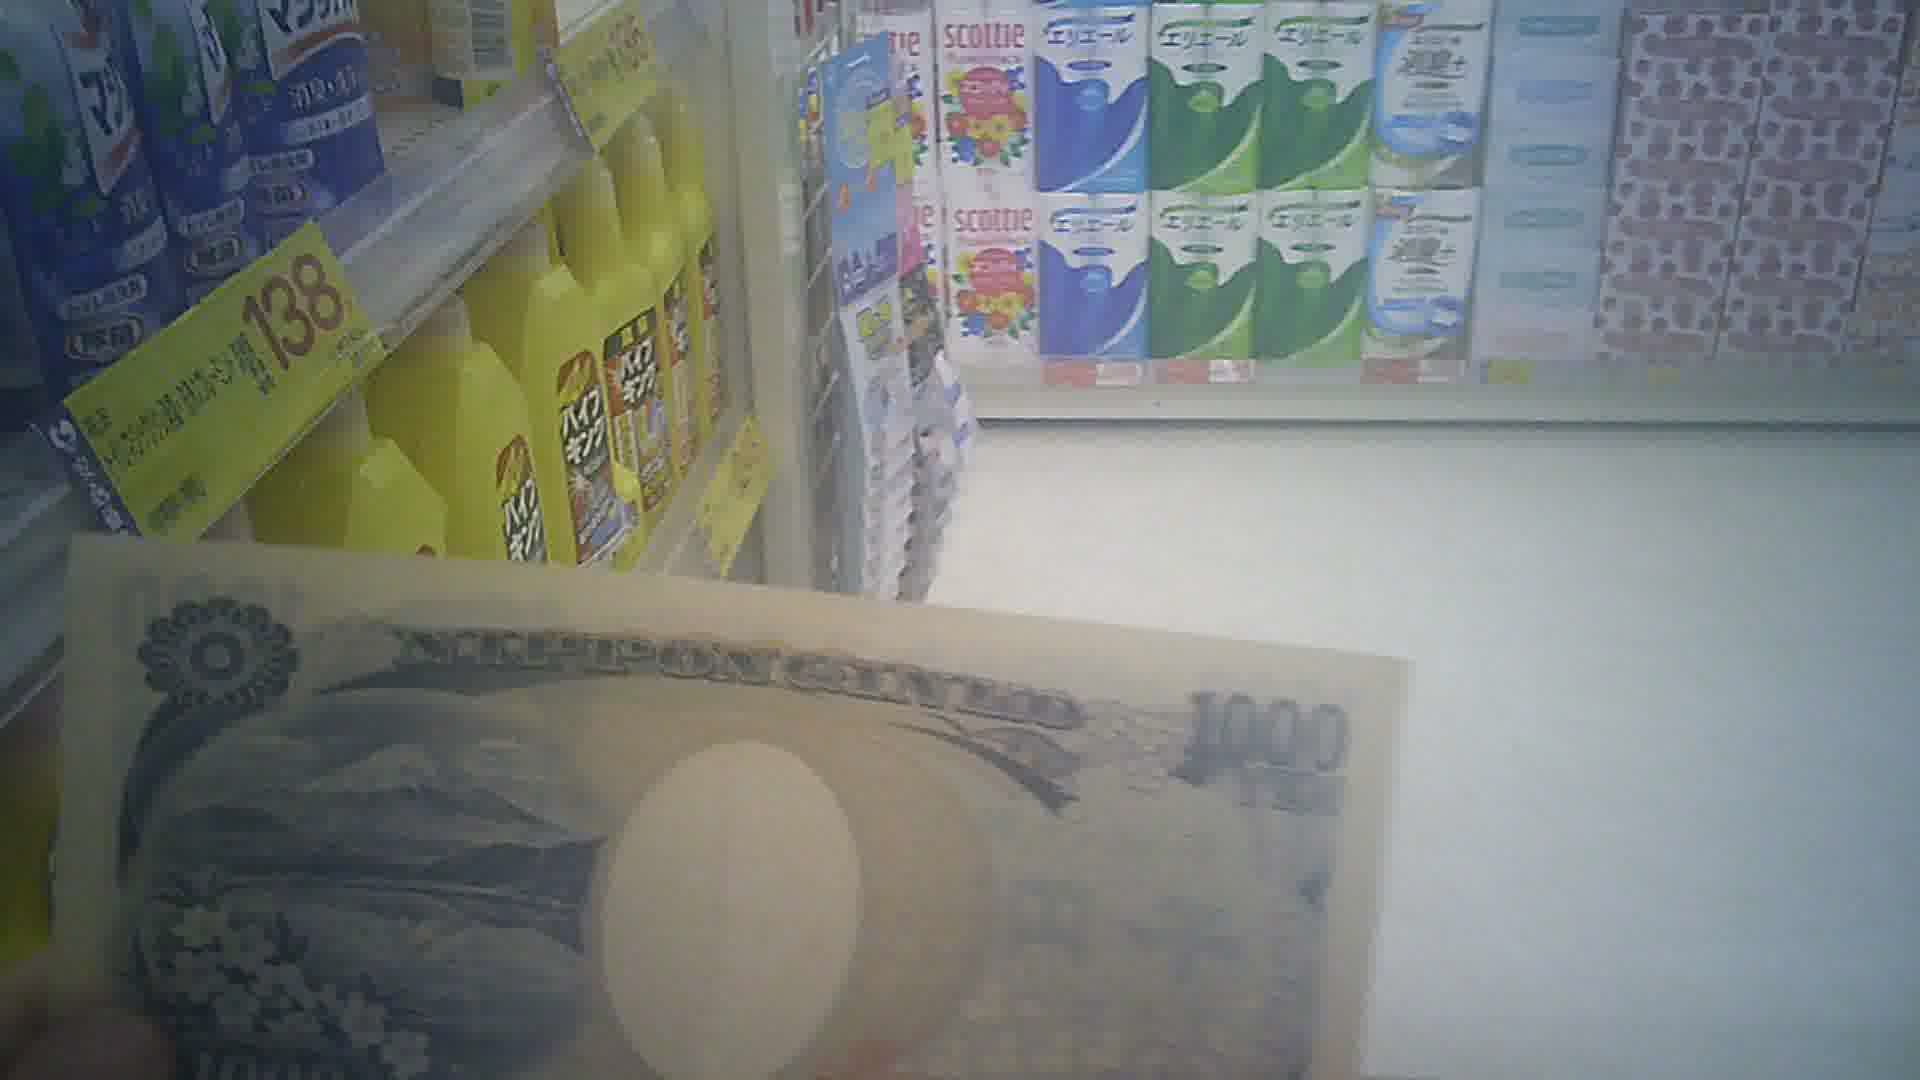1,000 Yen: (55, 529, 1394, 1056)
